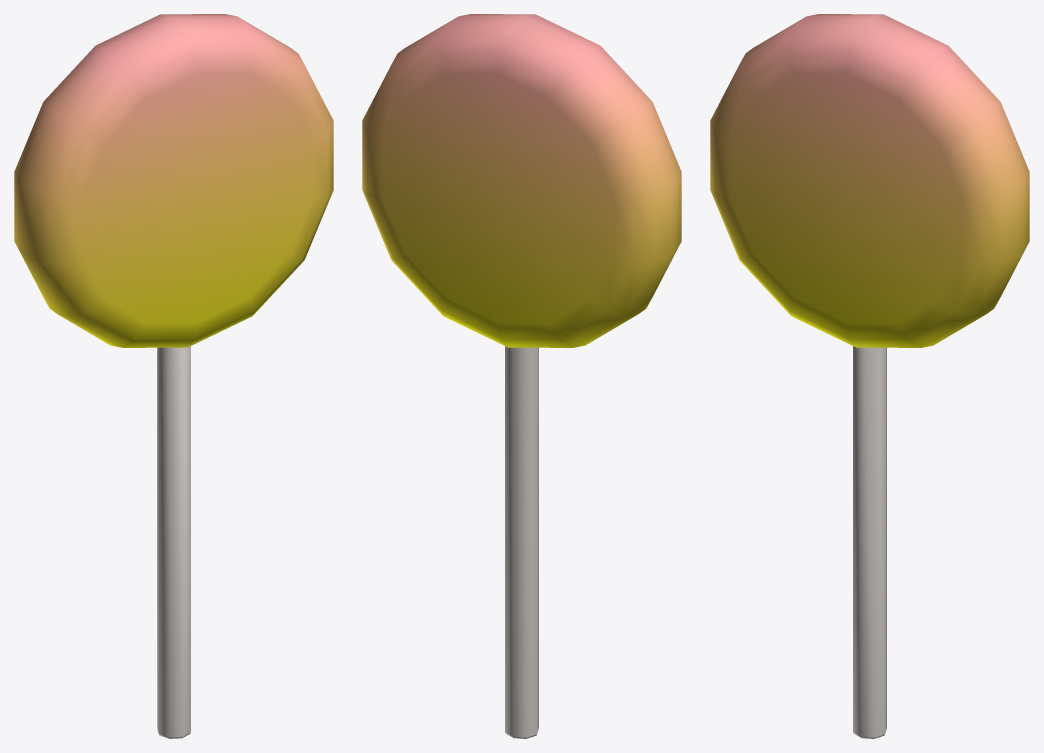
Rendered from candy_glass_8.fbx.
3 views of the same model, side by side, from view 1: azimuth 30°, elevation 25°; view 2: azimuth 150°, elevation 25°; view 3: azimuth 330°, elevation 25° (orthographic).
Visible parts, largest first — view 1: c_g_8; view 2: c_g_8; view 3: c_g_8.
Part boxes in pixels (bbox=[...]): c_g_8: bbox=[14, 14, 333, 738]; c_g_8: bbox=[362, 14, 681, 738]; c_g_8: bbox=[710, 14, 1029, 738].
Bounding box in the file's own units: 137 × 310 × 37.39.
